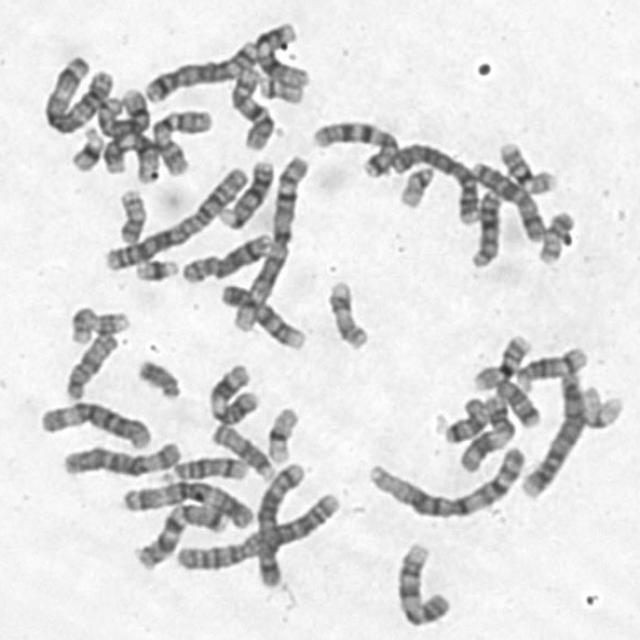A1: (224, 150, 312, 336), (361, 439, 530, 521)
A2: (98, 159, 252, 273), (170, 485, 343, 572)
A3: (115, 473, 257, 531), (36, 48, 116, 136)
B4: (516, 364, 588, 500), (386, 135, 482, 227)
B5: (138, 33, 260, 103), (250, 454, 309, 591)
C10: (144, 101, 214, 177), (225, 60, 275, 152)
C11: (452, 387, 518, 475), (202, 357, 261, 427)
C12: (248, 17, 311, 90), (97, 126, 161, 185)
C6: (34, 394, 154, 452), (56, 434, 185, 480)
C7: (126, 495, 228, 572), (306, 114, 400, 180)
C8: (176, 225, 275, 286), (92, 82, 153, 138)
C9: (215, 277, 308, 351), (390, 535, 453, 628)
D13: (213, 153, 276, 231), (465, 183, 504, 270)
D14: (510, 340, 590, 390), (154, 449, 250, 485)
D15: (205, 416, 277, 482), (58, 327, 121, 402)
E16: (466, 328, 533, 392), (492, 134, 560, 196)
E17: (322, 273, 371, 352), (62, 302, 132, 346)
E18: (488, 372, 542, 430), (437, 390, 491, 446)
F19: (574, 378, 626, 431), (260, 400, 301, 465)
F20: (532, 204, 577, 266), (111, 182, 149, 246)
G21: (64, 120, 104, 174), (128, 250, 180, 284)
G22: (392, 160, 437, 209), (252, 70, 306, 104)
X: (465, 154, 547, 244)
Y: (130, 352, 182, 400)
